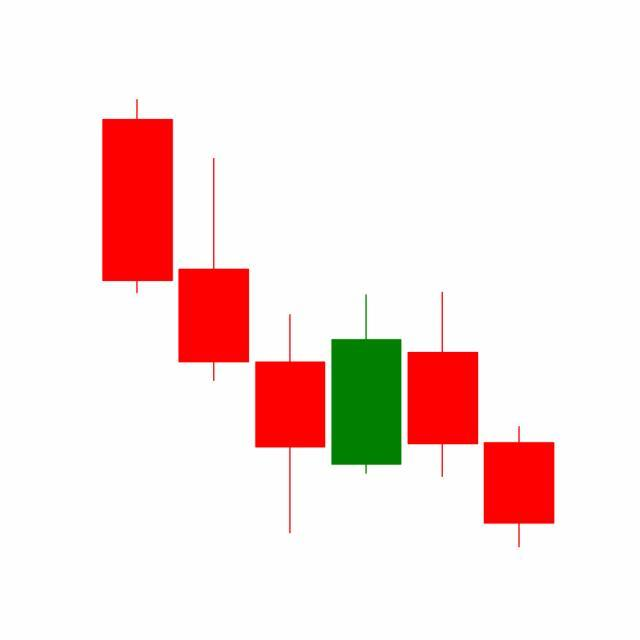Three Inside Up-Down: (326, 289, 555, 549)
